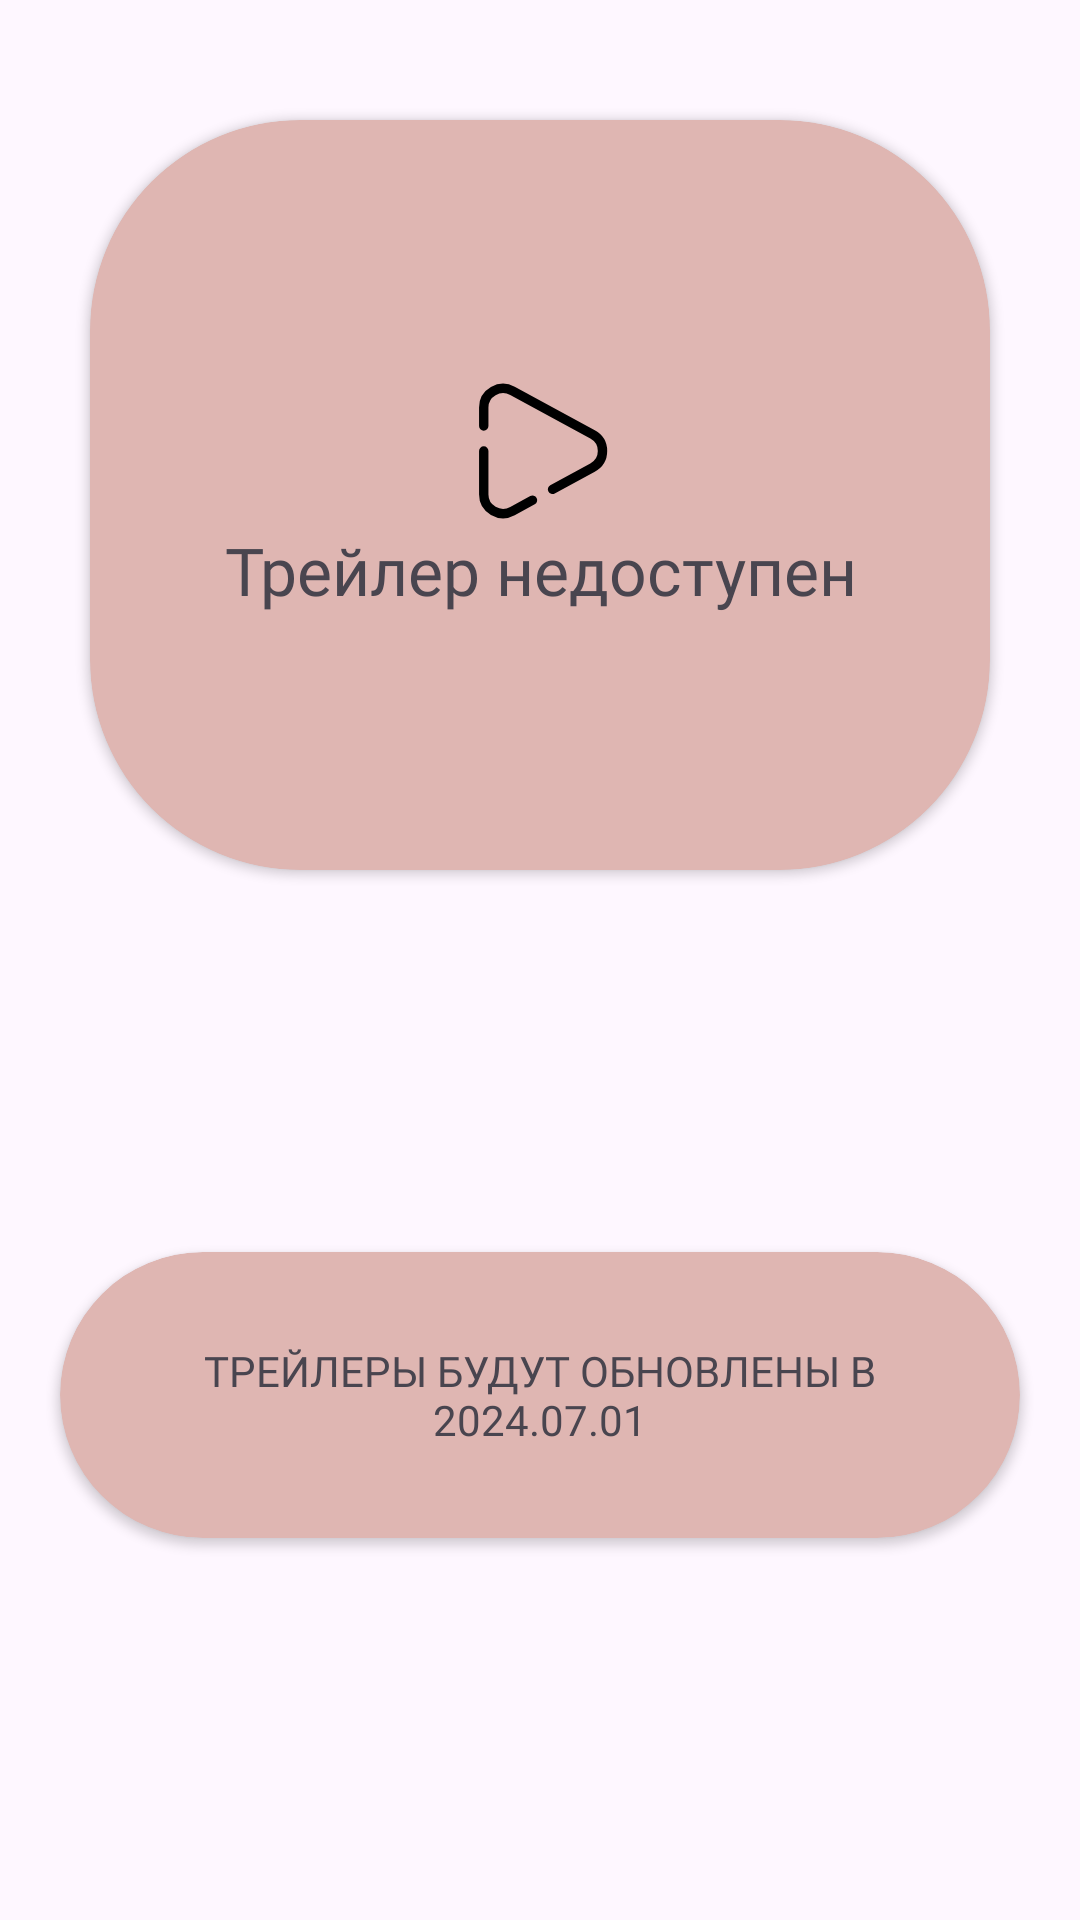

Icon bounding boxes for this 1080 x 1920 phone screenshot, format bbox=[x1, y1, x2, y2]:
play: bbox=[479, 383, 608, 519]
